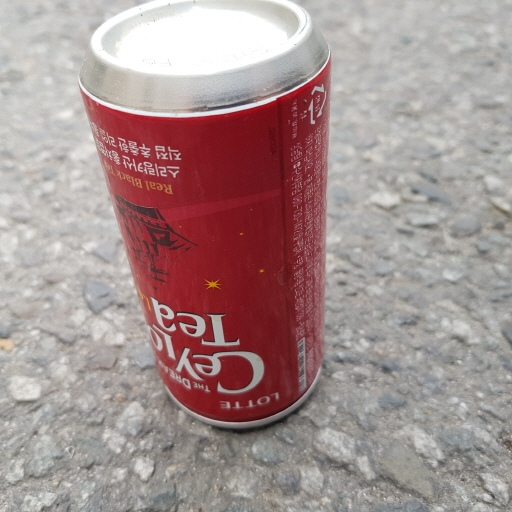Metal_0: (79, 1, 332, 430)
